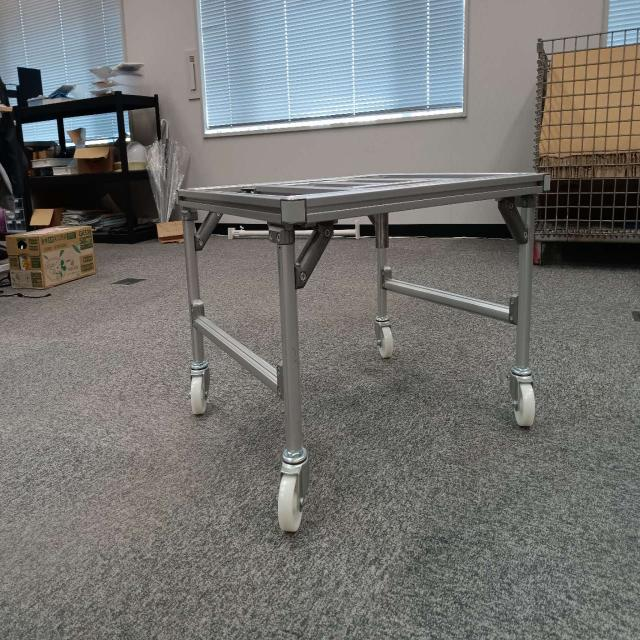box: (6, 224, 98, 291)
door: (289, 176, 534, 287)
side: (180, 189, 292, 398)
